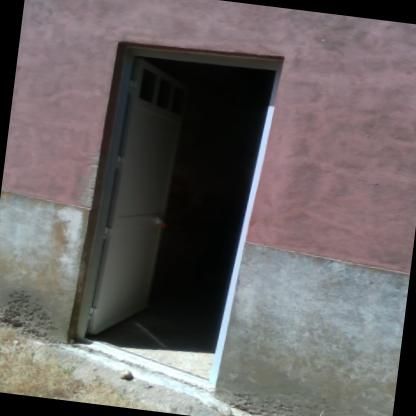open: (58, 22, 298, 390)
